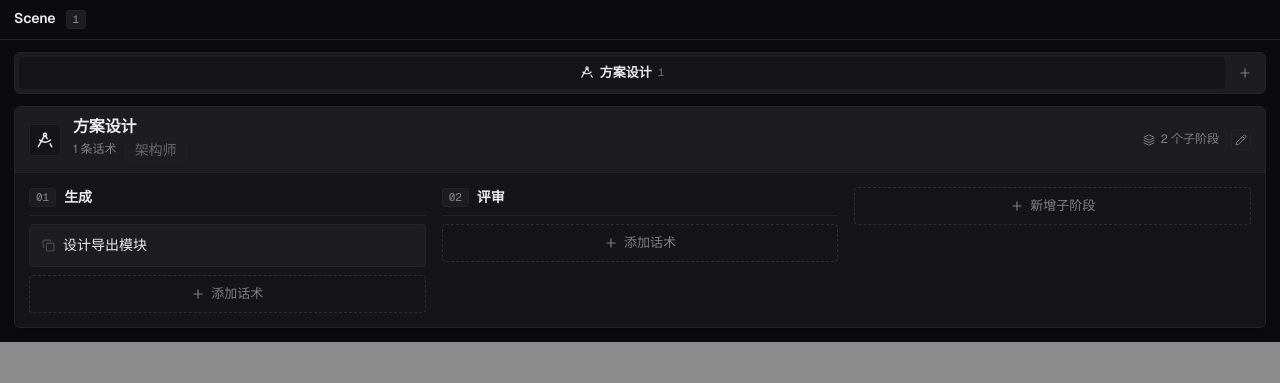
Scenario: ScenePanel — 整理态 phrase card (D-0) › whole-card click previews (aria-expanded) and does NOT copy
Click the button "设计导出模块" at [105, 245], box x1=29 y1=224 x2=426 y2=267
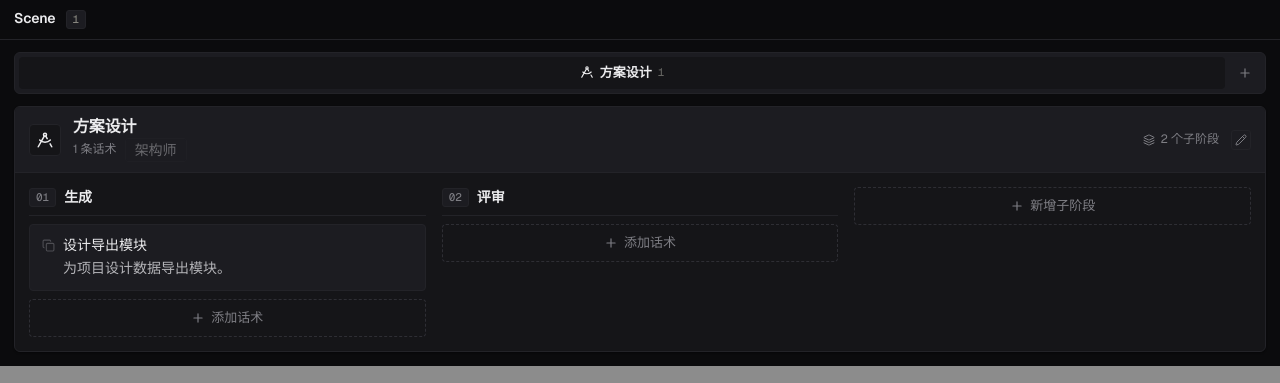
Now the button "设计导出模块 为项目设计数据导出模块。" is expanded
// A second click collapses it again.
Click the button "设计导出模块 为项目设计数据导出模块。" at [227, 258], box x1=29 y1=224 x2=426 y2=291
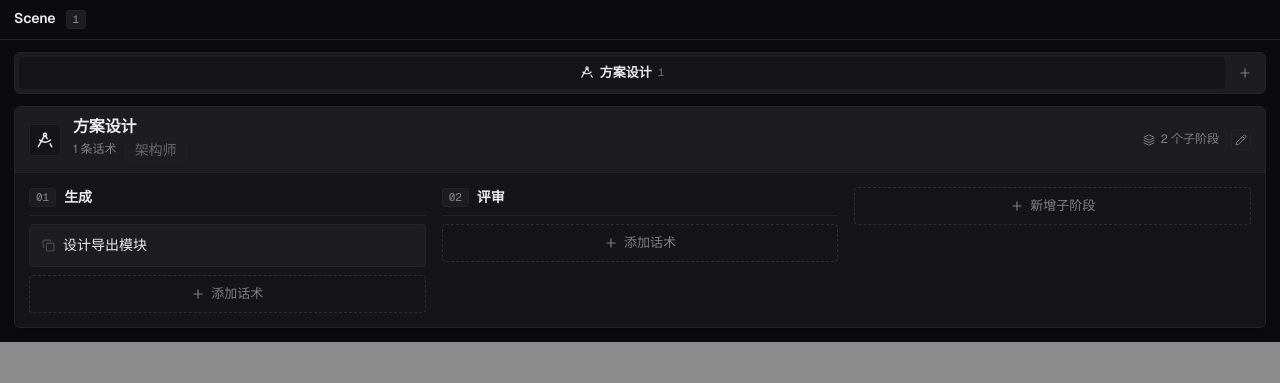
Now the button "设计导出模块" is collapsed, box x1=29 y1=224 x2=426 y2=267
